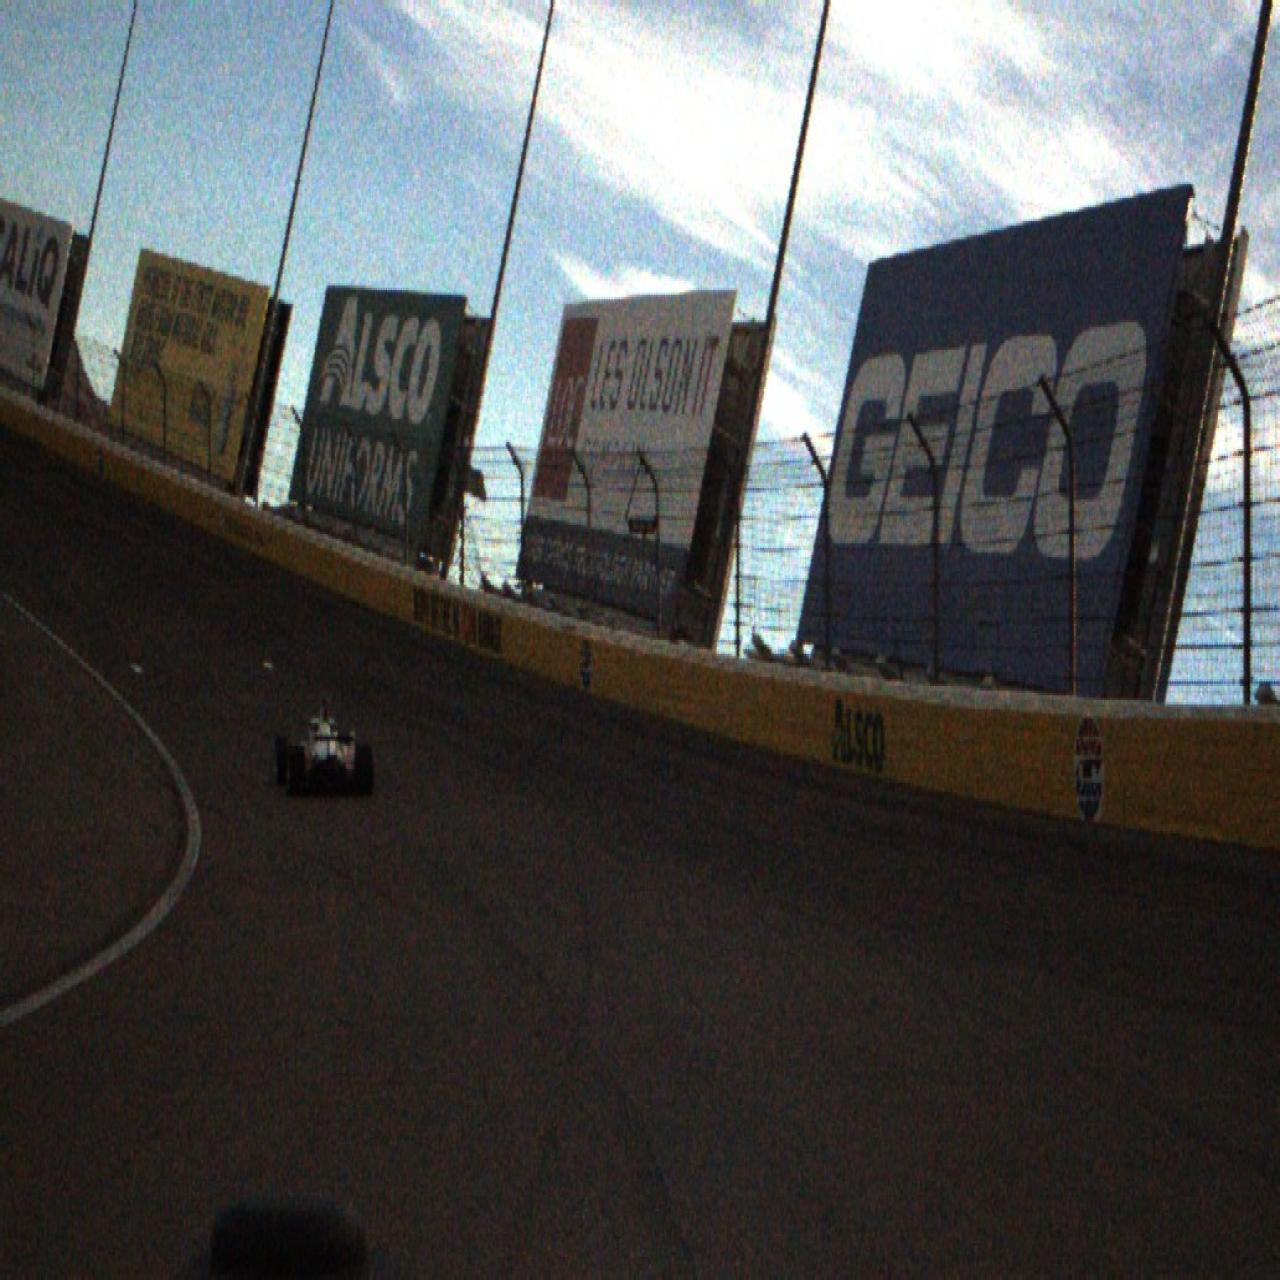AV: (273, 697, 374, 799)
Wheel: (355, 744, 374, 798), (287, 747, 305, 799), (274, 736, 288, 787)
